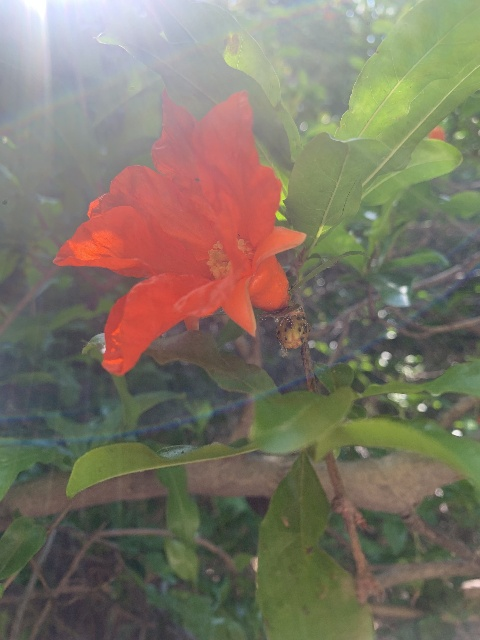flower: (53, 83, 303, 378)
